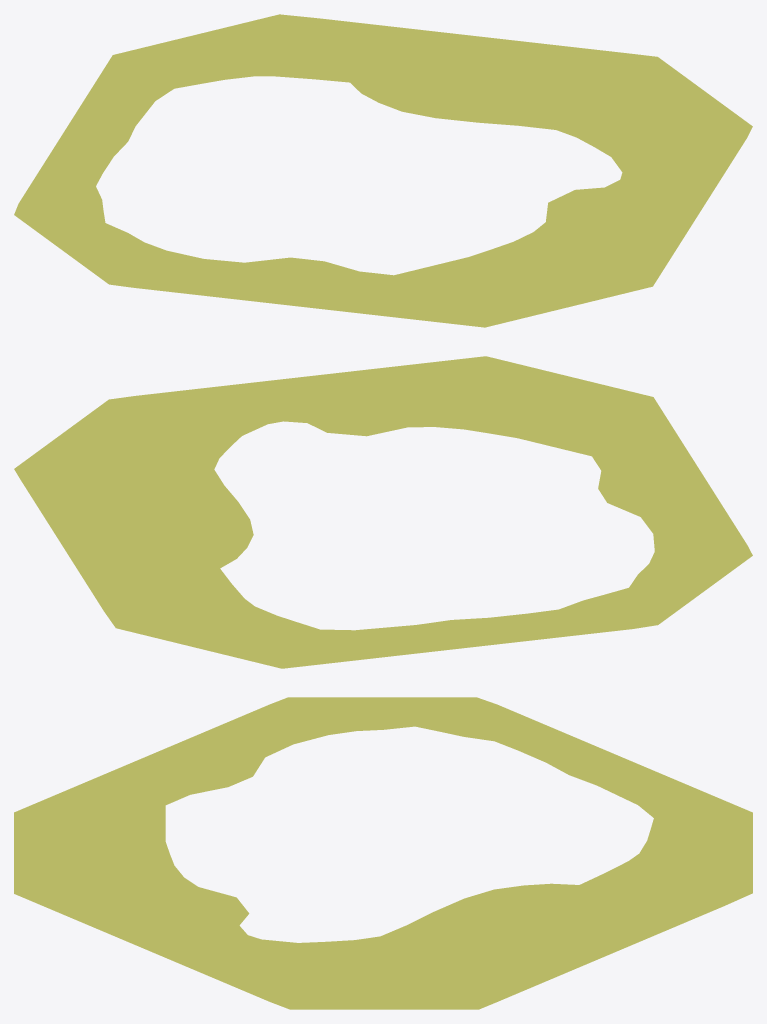
The model's file is deltahalo_01_design.fbx.
The picture shows the model from 3 angles, top to bottom: view 1: azimuth 30°, elevation 25°; view 2: azimuth 150°, elevation 25°; view 3: azimuth 270°, elevation 25°; orthographic projection.
Visible parts, largest first — view 1: water_surface:water_center_platform.001; view 2: water_surface:water_center_platform.001; view 3: water_surface:water_center_platform.001.
Part boxes in pixels (x1,y1,x2,y2): water_surface:water_center_platform.001: (14,14,752,327); water_surface:water_center_platform.001: (14,356,752,668); water_surface:water_center_platform.001: (14,697,752,1009).
Size of what is drawn, in the model's own units: 1200 by 1200 by 0.
